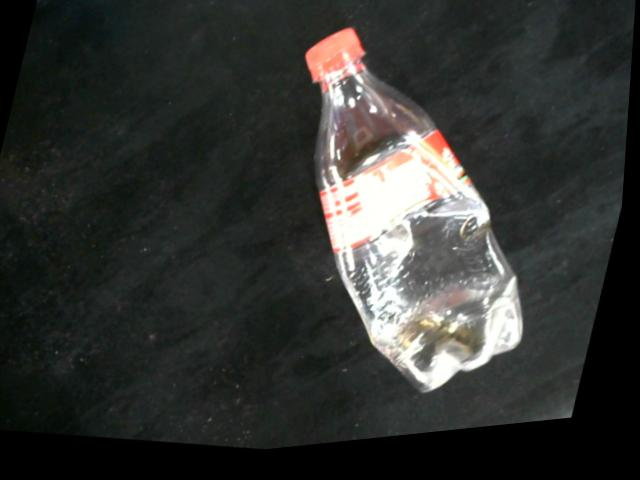bottle: (305, 33, 530, 407)
